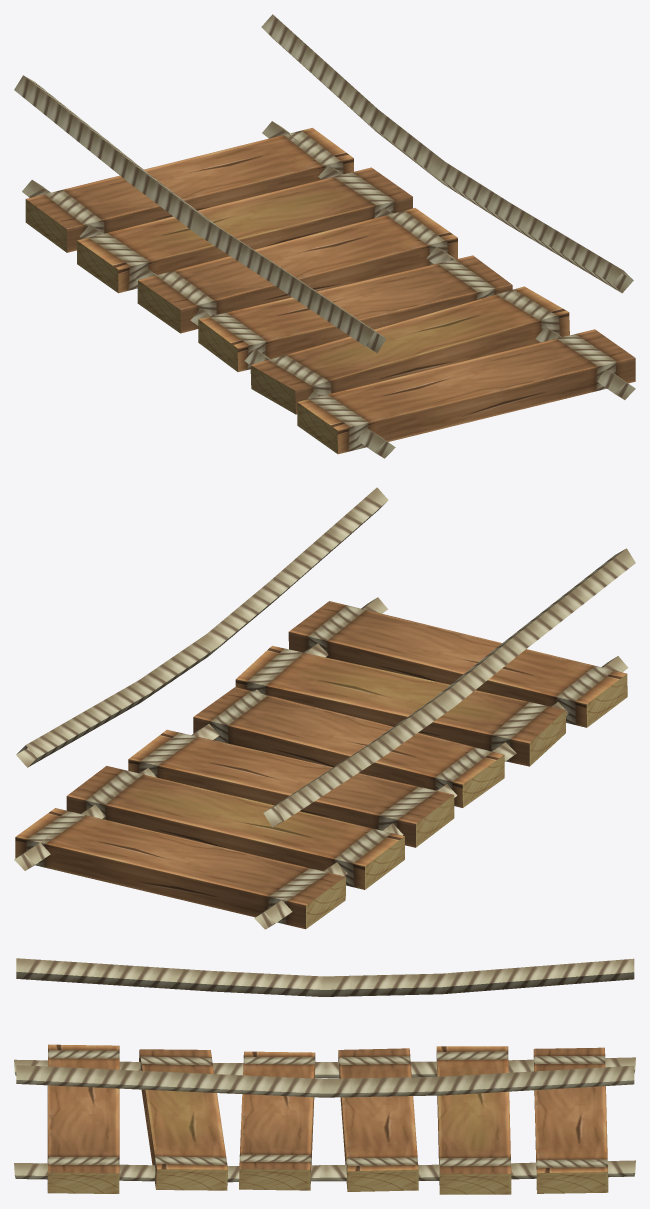
Rendered from bridge_01_tile_02.fbx.
3 views of the same model, one above another, from view 1: azimuth 30°, elevation 25°; view 2: azimuth 150°, elevation 25°; view 3: azimuth 270°, elevation 25° (orthographic). The views are drawn at different scales.
Visible parts, largest first — view 1: bridge_01_tile_02Mesh; view 2: bridge_01_tile_02Mesh; view 3: bridge_01_tile_02Mesh.
Boxes of the visible parts, <box> form: bridge_01_tile_02Mesh: <box>14,14,635,458</box>; bridge_01_tile_02Mesh: <box>14,487,635,929</box>; bridge_01_tile_02Mesh: <box>14,958,635,1194</box>.
Bounding box in the file's own units: 1.53 × 0.662 × 3.15.
